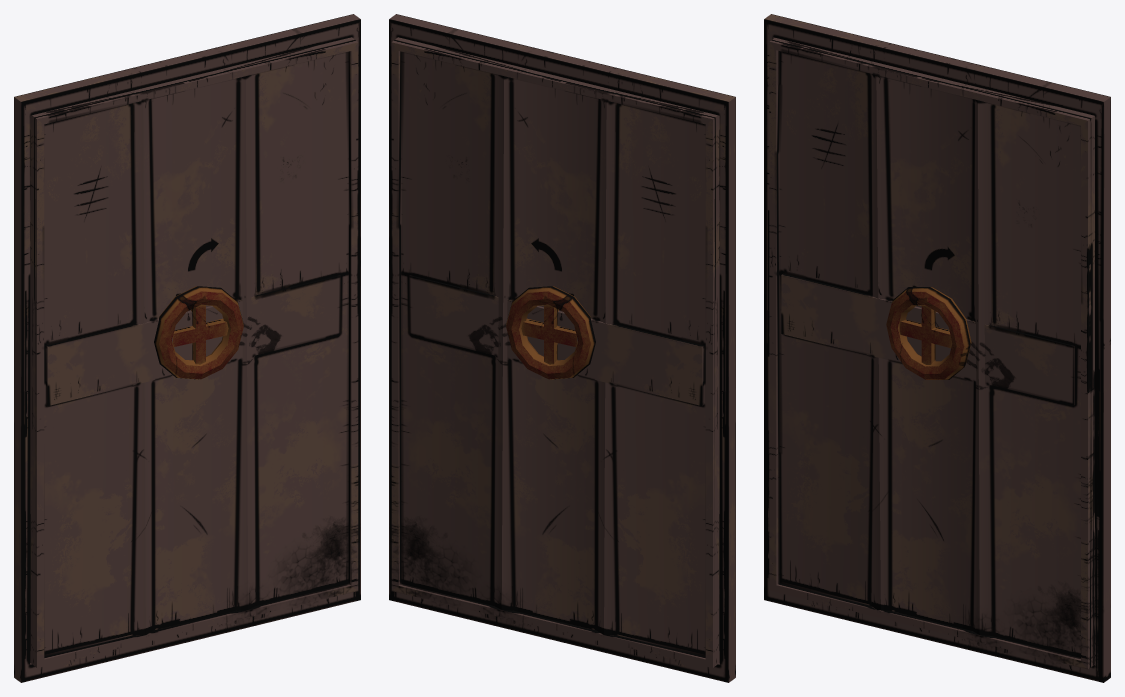
Rendered from dor1.fbx.
3 renders of one model, left to right at view 1: azimuth 30°, elevation 25°; view 2: azimuth 150°, elevation 25°; view 3: azimuth 330°, elevation 25°, orthographic.
Visible parts, largest first — view 1: Cube.001; view 2: Cube.001; view 3: Cube.001.
Boxes of the visible parts, left/top/right/bottom form: Cube.001: left=14, top=14, right=360, bottom=682; Cube.001: left=389, top=14, right=735, bottom=682; Cube.001: left=764, top=14, right=1110, bottom=682.
Bounding box in the file's own units: 141 × 230 × 22.96.
1 material, 1 textured.
